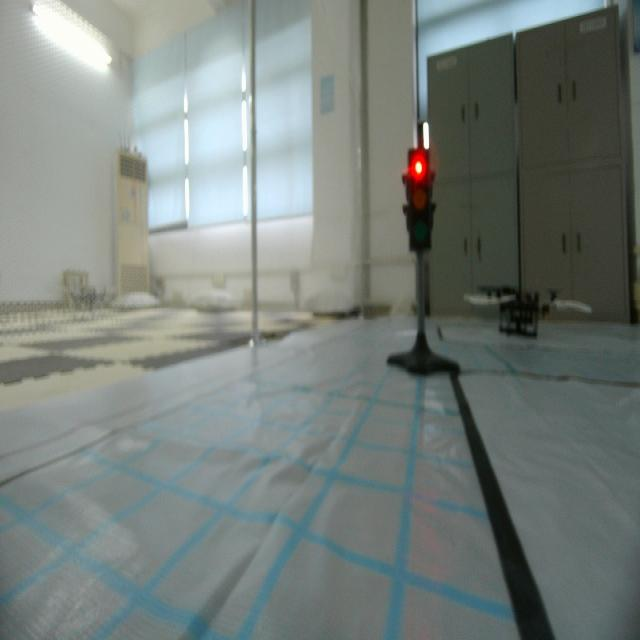red: (398, 142, 439, 258)
